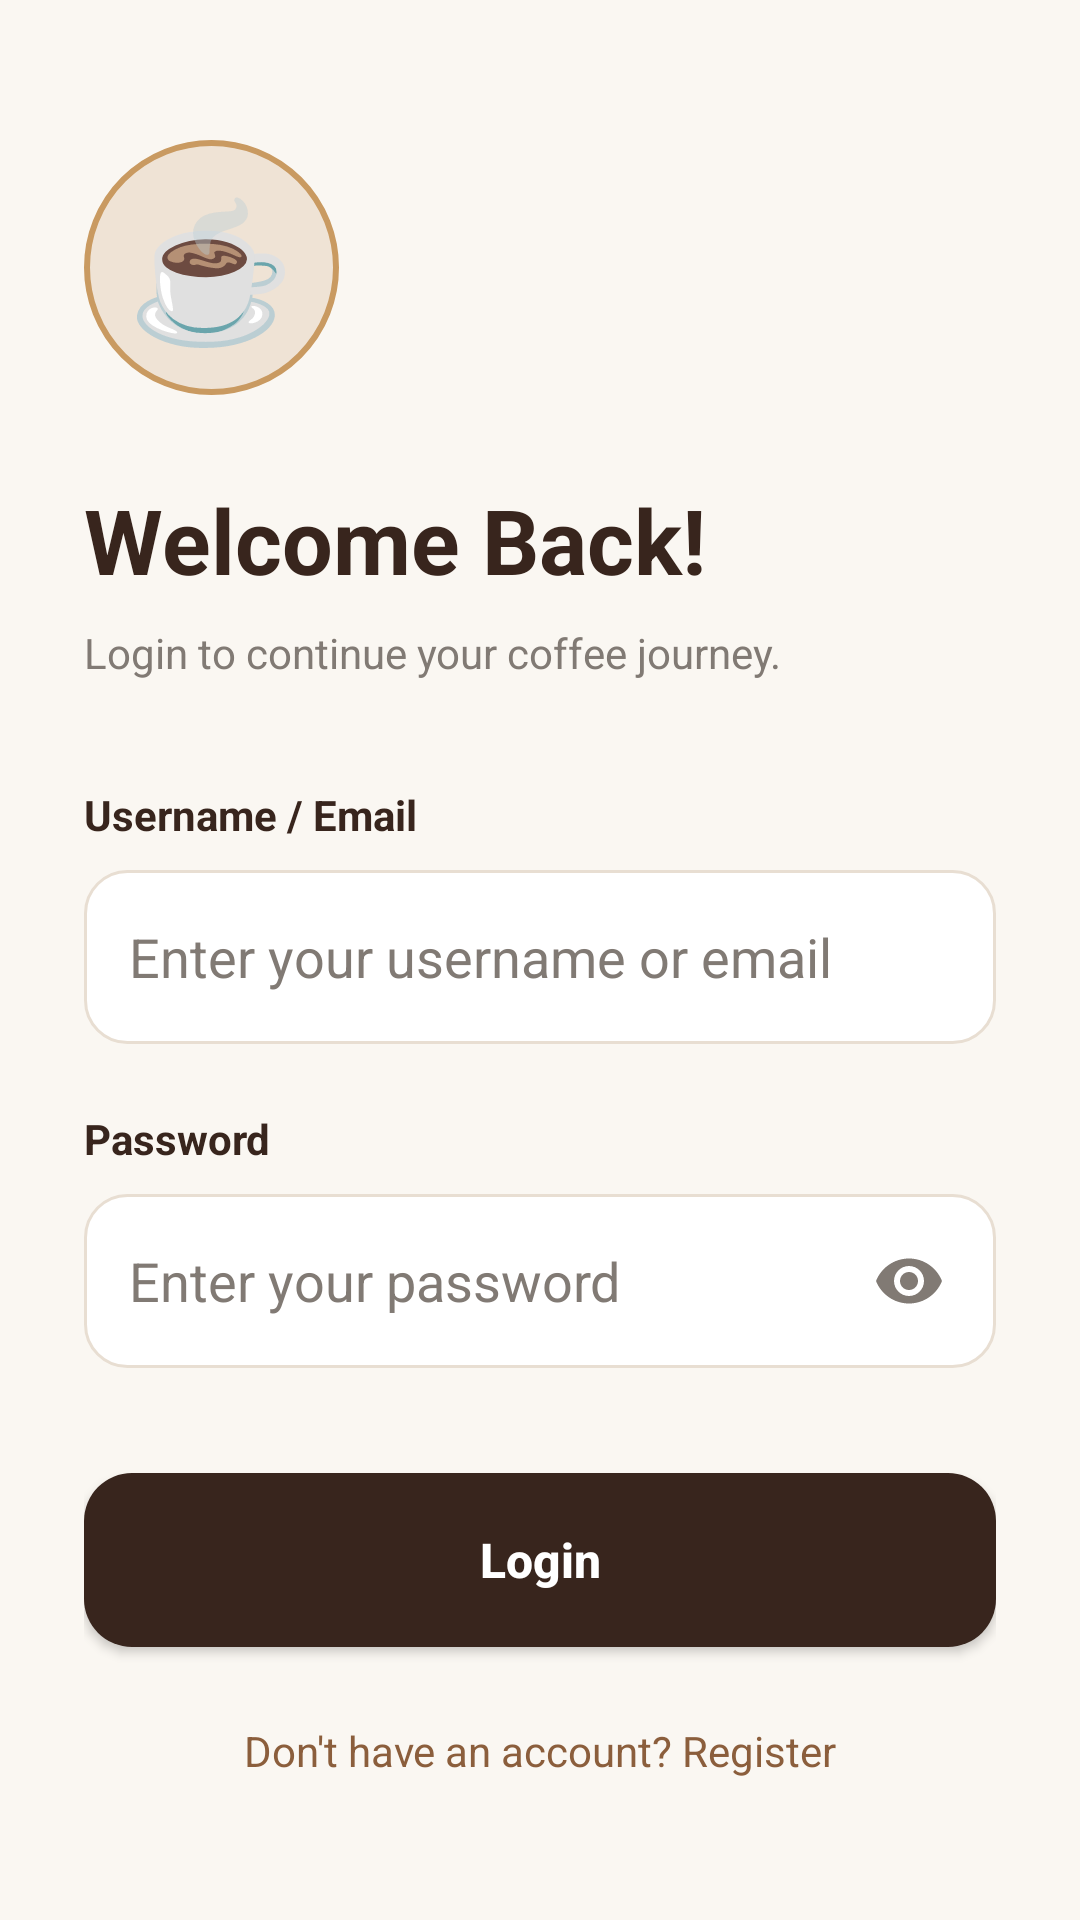

Icons on this 1080*1920 Android screen, each with the point to tap as (x=x, y=y):
Toggle Password Visibility: (x=909, y=1281)
